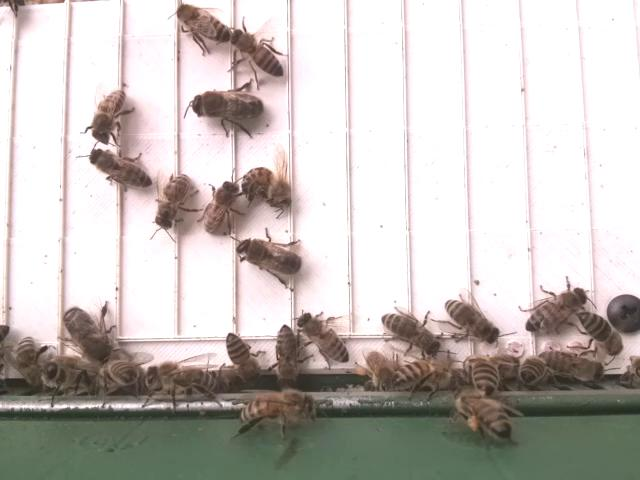Drone: (185, 85, 269, 130), (233, 234, 307, 281), (60, 302, 115, 365)
Worker: (521, 281, 591, 337), (376, 309, 445, 360), (81, 87, 138, 148), (227, 24, 287, 81), (87, 144, 152, 194), (171, 1, 234, 50), (295, 311, 352, 364), (443, 296, 503, 346), (152, 171, 194, 234), (237, 393, 320, 424), (200, 177, 242, 237), (574, 308, 624, 356), (539, 349, 605, 383), (240, 165, 297, 203), (224, 331, 262, 388), (272, 321, 304, 386), (389, 362, 456, 391), (467, 354, 504, 399)
